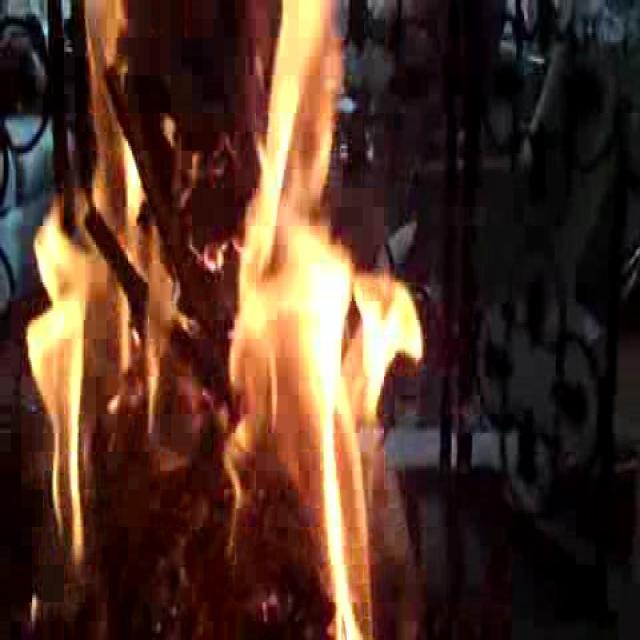fire: (41, 36, 398, 615)
